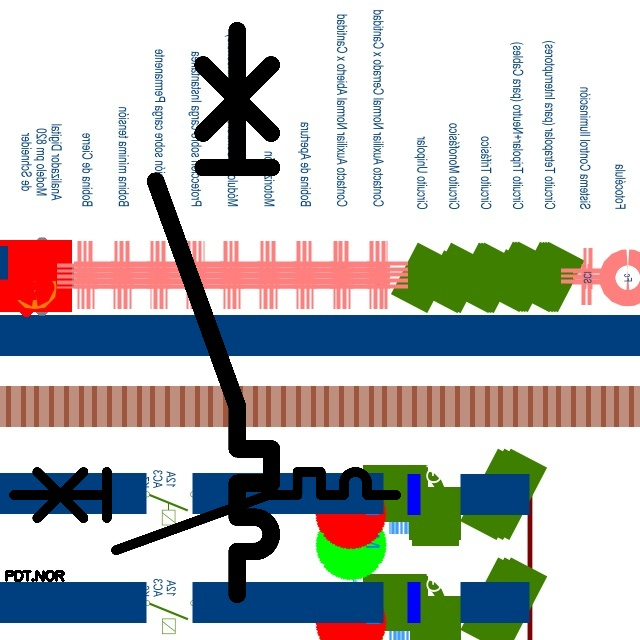interruptor_termomagnetico: (141, 16, 286, 609), (4, 462, 406, 560)
